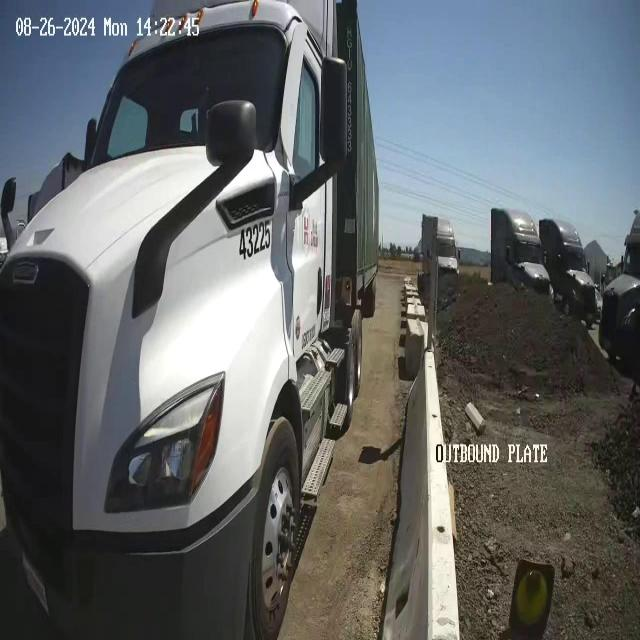CONTAINER: (323, 1, 380, 332)
